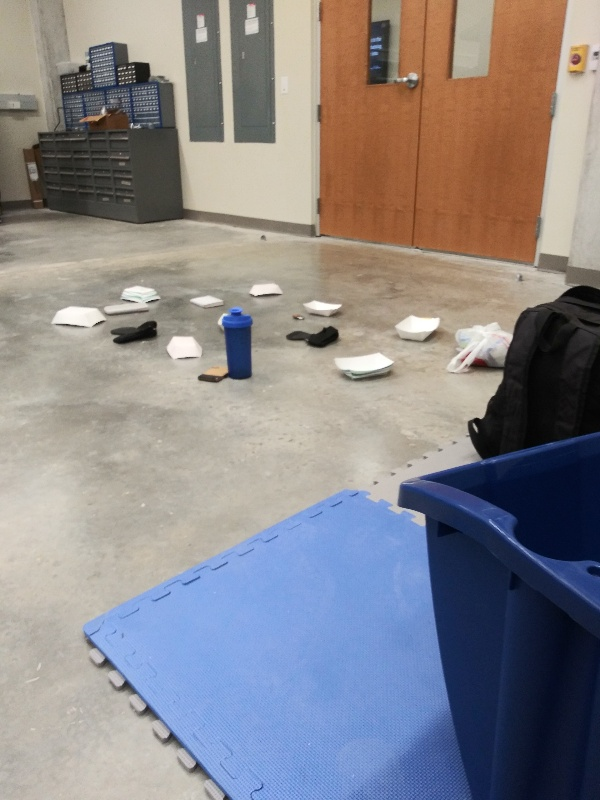plate: (329, 348, 399, 383), (46, 303, 109, 330), (390, 311, 443, 343), (166, 332, 207, 363), (119, 280, 164, 307), (245, 278, 287, 302), (299, 297, 343, 319)
